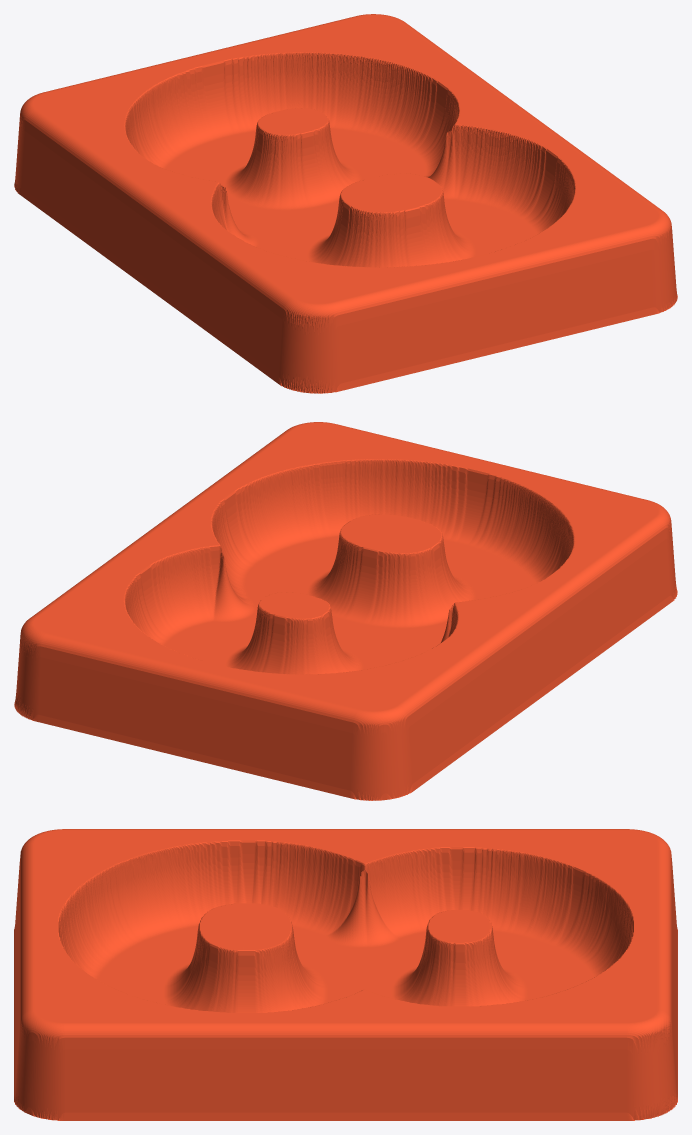
Rendered from mold.glb.
3 views of the same model, one above another, from view 1: azimuth 30°, elevation 25°; view 2: azimuth 150°, elevation 25°; view 3: azimuth 270°, elevation 25° (orthographic). The views are drawn at different scales.
Visible parts, largest first — view 1: geometry_0; view 2: geometry_0; view 3: geometry_0.
Boxes of the visible parts, box(x1,y1,x2,y2) form: geometry_0: box(14, 14, 677, 393); geometry_0: box(14, 422, 677, 800); geometry_0: box(14, 829, 677, 1120).
Bounding box in the file's own units: 0.088 × 0.0175 × 0.1178.
